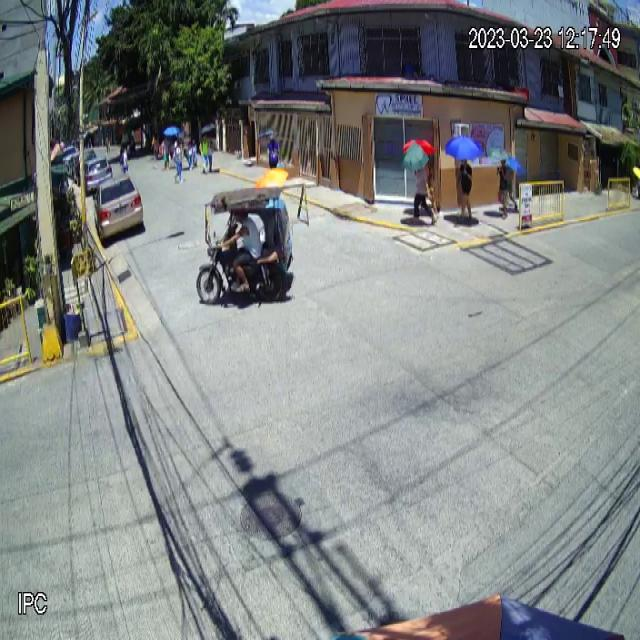Car: (92, 172, 144, 242)
Tricycle: (198, 188, 292, 308)
